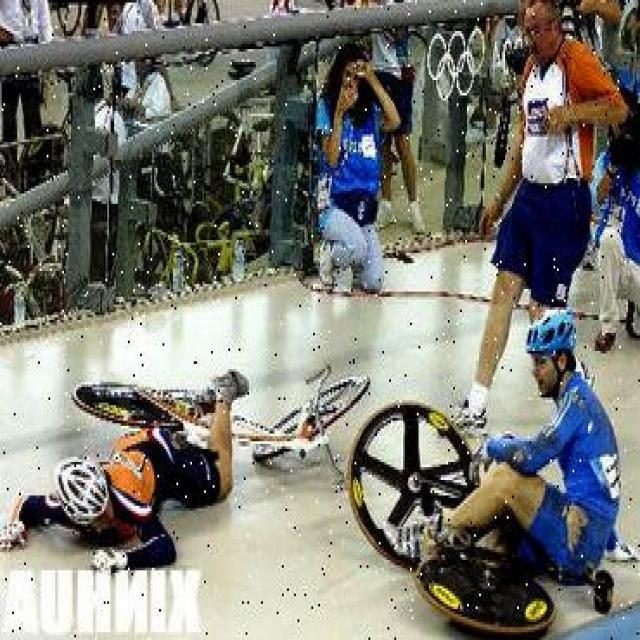fall: (442, 315, 618, 591), (24, 374, 235, 570)
